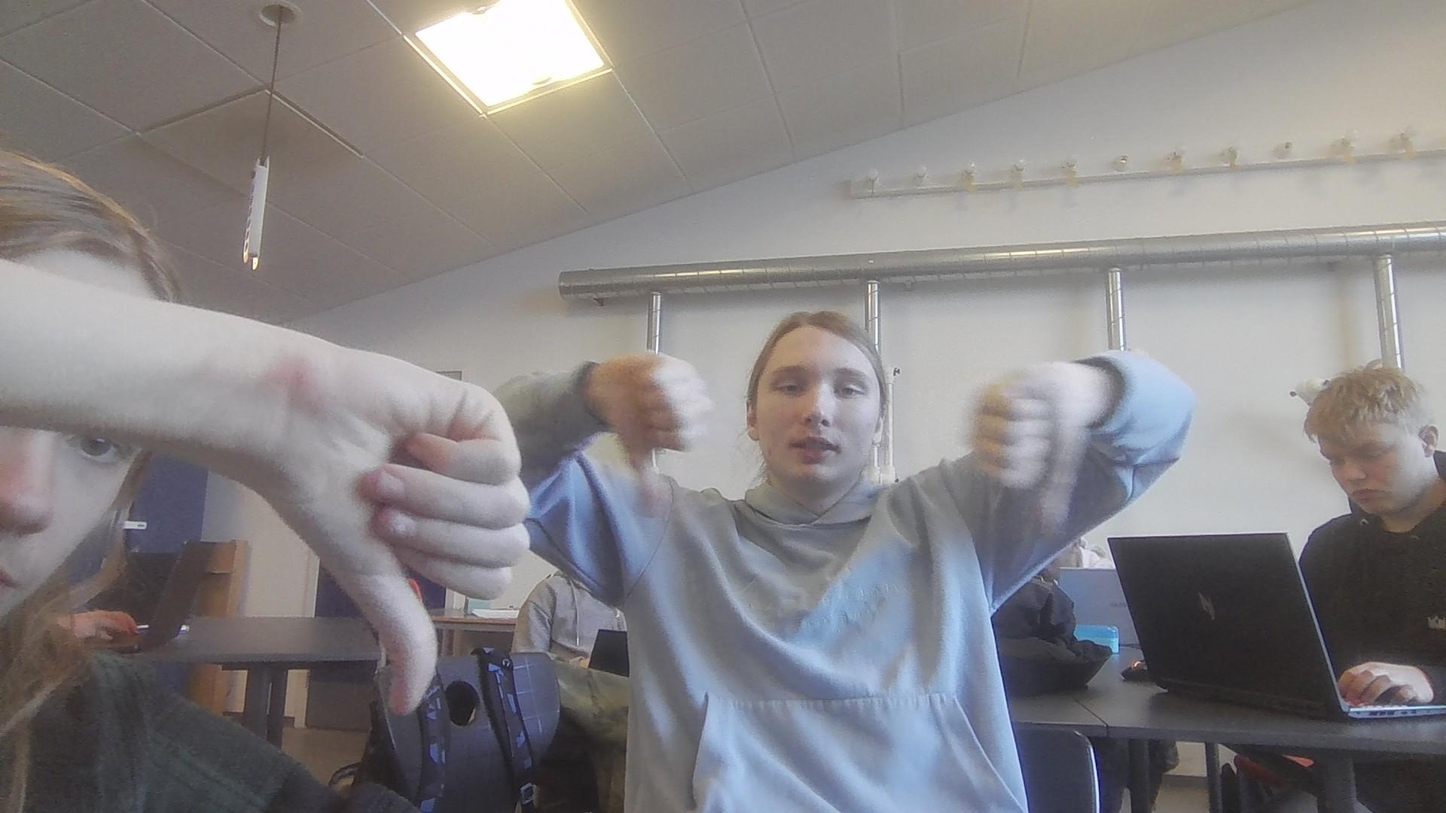thumbs down: (238, 346, 538, 711), (965, 359, 1109, 534), (585, 344, 717, 505)
